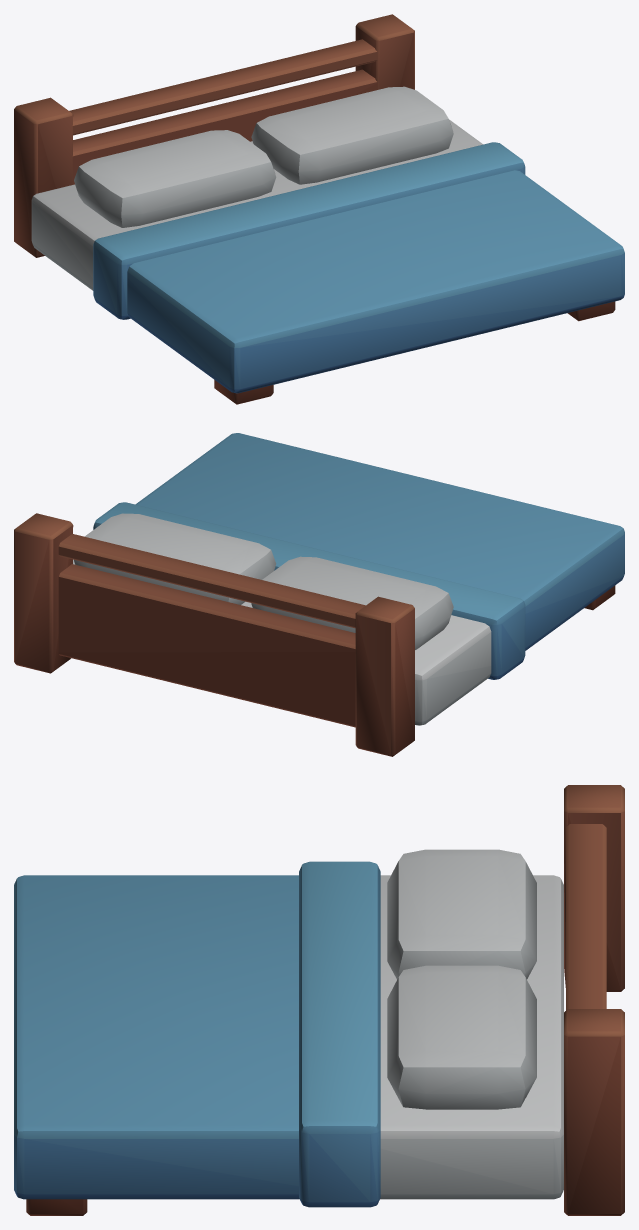
File: kk_furniture_bed_double_A.glb
3 views of the same model, one above another, from view 1: azimuth 30°, elevation 25°; view 2: azimuth 150°, elevation 25°; view 3: azimuth 270°, elevation 25° (orthographic). The views are drawn at different scales.
Parts seen in each view (by area): view 1: kk_furniture_bed_double_A; view 2: kk_furniture_bed_double_A; view 3: kk_furniture_bed_double_A.
Boxes of the visible parts, x1=… form: kk_furniture_bed_double_A: x1=14, y1=14, x2=624, y2=404; kk_furniture_bed_double_A: x1=14, y1=433, x2=624, y2=756; kk_furniture_bed_double_A: x1=14, y1=785, x2=624, y2=1215.
Bounding box in the file's own units: 3.1 × 1 × 3.
